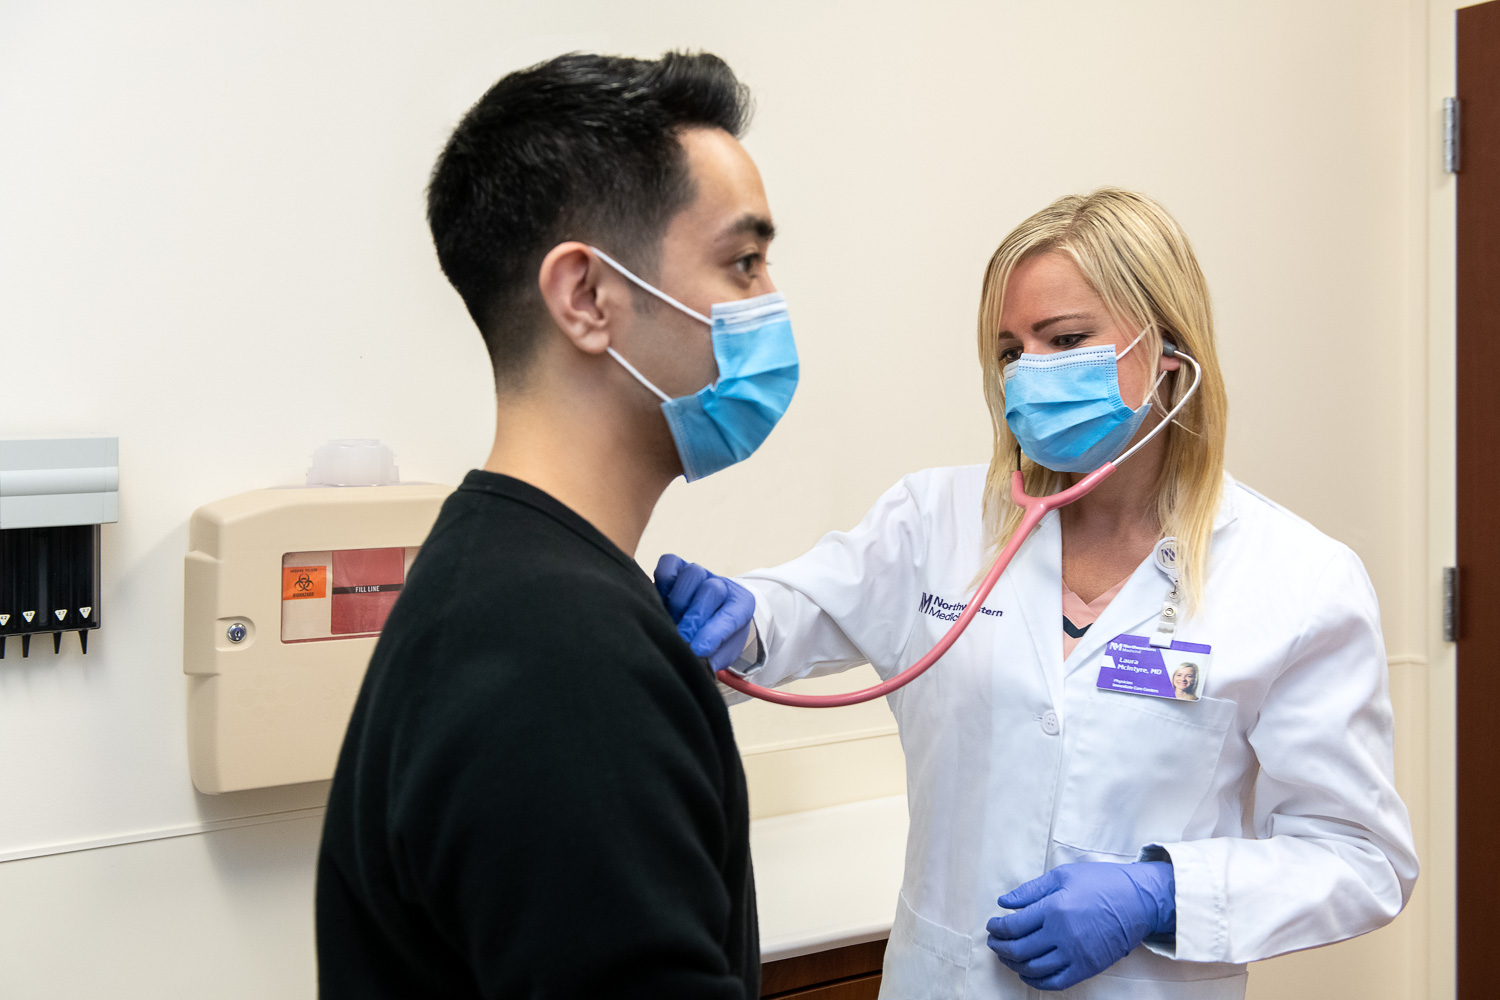with_mask: (659, 183, 790, 458), (999, 271, 1120, 438)
